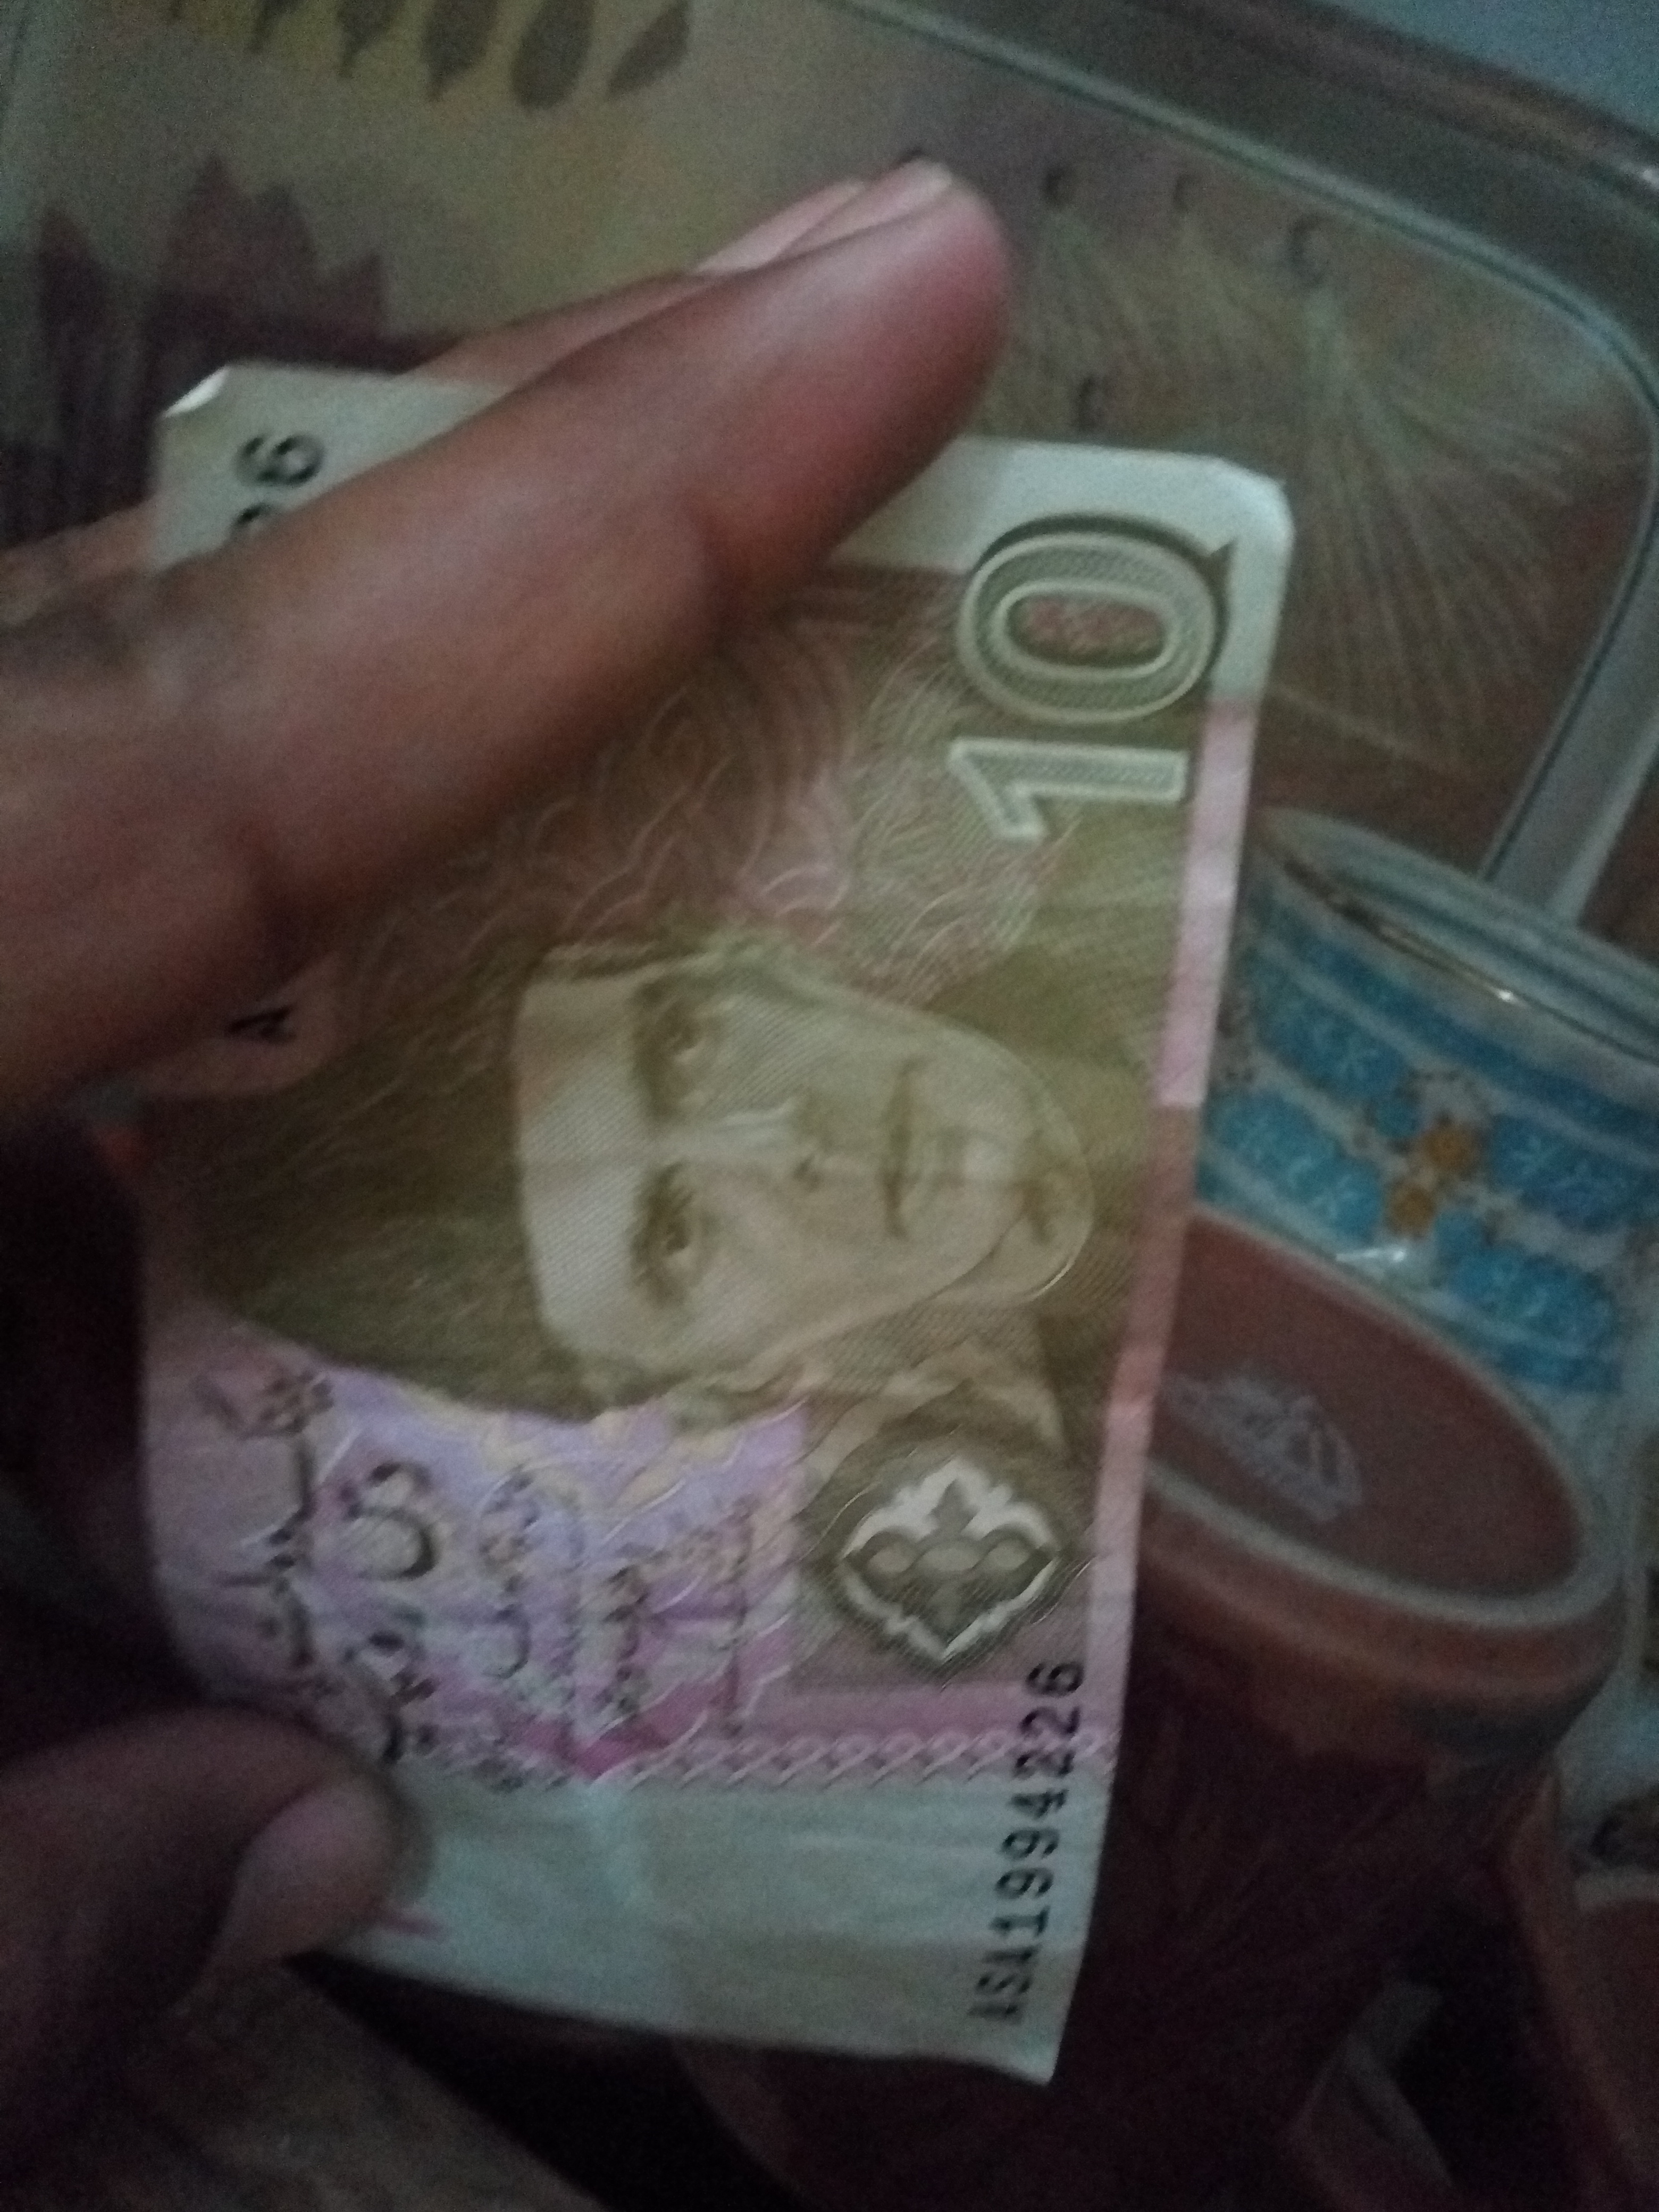10 rupee: (2, 282, 1371, 2024)
